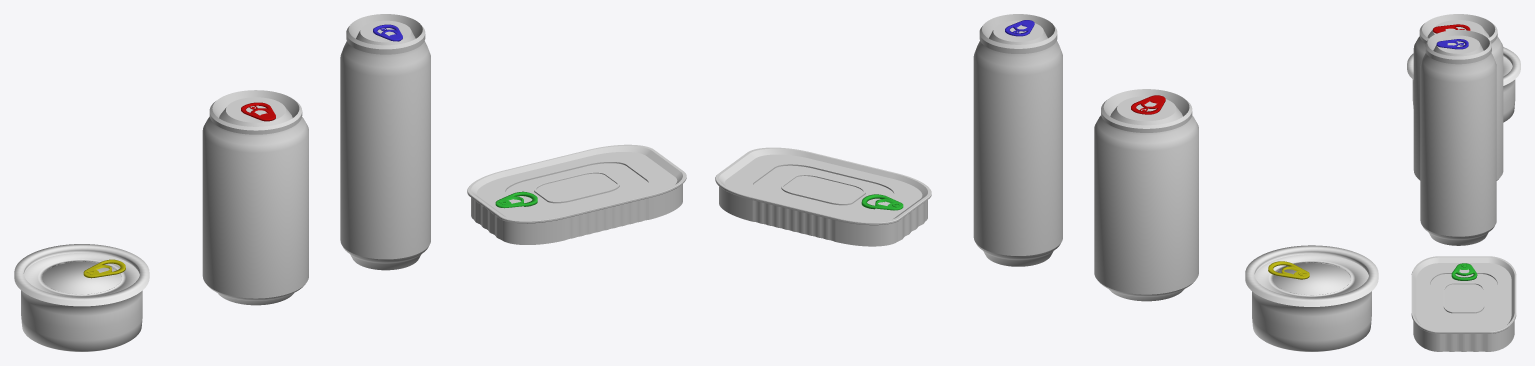
File: can.glb
The picture shows the model from 3 angles, left to right: view 1: azimuth 30°, elevation 25°; view 2: azimuth 150°, elevation 25°; view 3: azimuth 270°, elevation 25°; orthographic projection. The views are drawn at different scales.
Visible parts, largest first — view 1: Lata_Cerveja, Circle, Lata_Sardinha, Circle.001; view 2: Lata_Cerveja, Circle, Lata_Sardinha, Circle.001; view 3: Lata_Cerveja, Lata_Sardinha, Circle, Circle.001, Plane.003, Plane.001, Plane.
Part boxes in pixels (x1,y1,x2,y2): Lata_Cerveja: (340, 14, 430, 270); Circle: (202, 90, 308, 305); Lata_Sardinha: (467, 144, 686, 244); Circle.001: (14, 244, 149, 351); Lata_Cerveja: (973, 14, 1062, 266); Circle: (1094, 89, 1198, 301); Lata_Sardinha: (715, 147, 931, 246); Circle.001: (1245, 245, 1378, 351); Lata_Cerveja: (1420, 30, 1496, 245); Lata_Sardinha: (1411, 256, 1516, 351); Circle: (1413, 14, 1503, 180); Circle.001: (1407, 47, 1520, 122); Plane.003: (1451, 263, 1477, 280); Plane.001: (1436, 39, 1468, 49); Plane: (1433, 24, 1470, 33).
Bounding box in the file's own units: 8.73 × 2.95 × 1.58.
